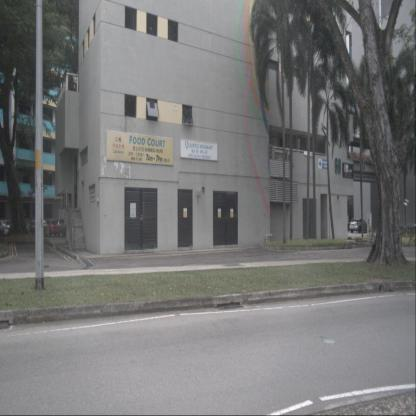cone: (404, 230, 408, 239)
